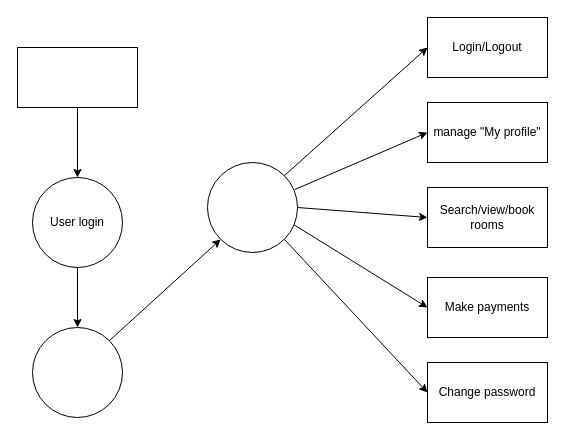
The diagram is 565 pixels wide and 440 high, and some of its shapes have lost their labels. The shapes that lost their labels are listed below. From the top down, each one's centre as x and y in pixels, then its label:
the point at 77,77: User
the point at 252,207: User module
the point at 77,372: Check roles
